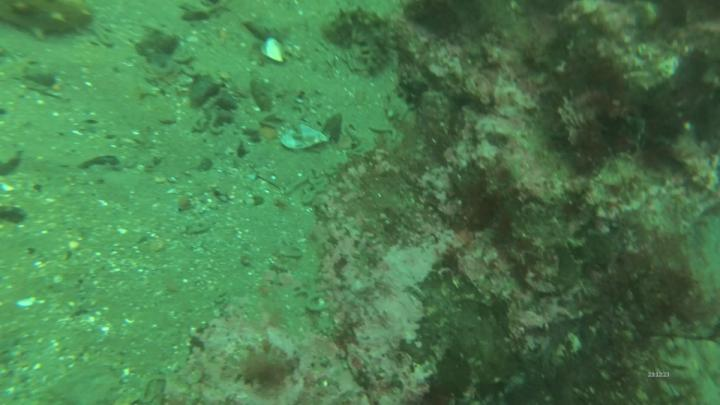holothurian: (319, 6, 396, 78), (1, 1, 99, 38)
